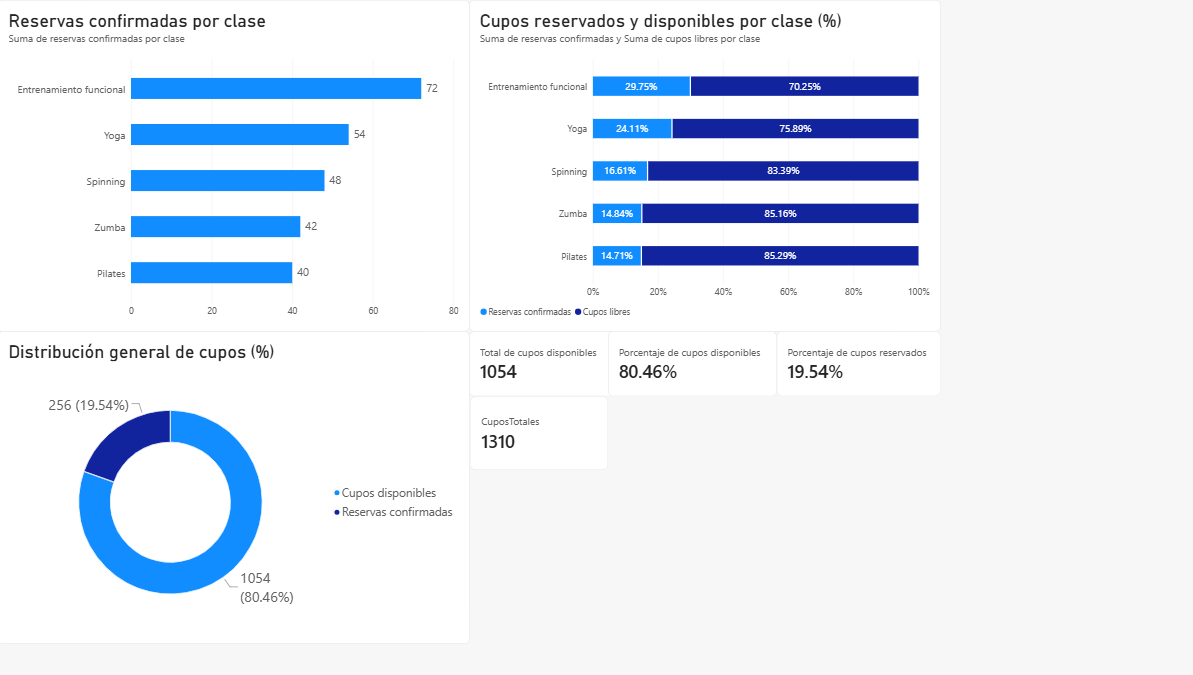

The dashboard page shown, as its layout file describes it:
{"tool":"powerbi","page":{"name":"Gestión de Clases","canvas":[1920,1080],"ordinal":1},"visuals":[{"type":"clusteredBarChart","title":"Reservas confirmadas por clase","fields":{"Category":["reportes vw_OcupacionSesion.clase"],"Y":["Sum(reportes vw_OcupacionSesion.reservas_confirmadas)"]},"box":[0,0,754,530],"z":0},{"type":"hundredPercentStackedBarChart","title":"Cupos reservados y disponibles por clase (%)","fields":{"Category":["reportes vw_OcupacionSesion.clase"],"Y":["Sum(reportes vw_OcupacionSesion.reservas_confirmadas)","Sum(reportes vw_OcupacionSesion.cupos_libres)"]},"box":[754,0,754,530],"z":1000},{"type":"cardVisual","title":"Cupos disponibles","fields":{"Data":["Sum(reportes vw_OcupacionSesion.cupos_libres)"]},"box":[754,530,234,104],"z":2000},{"type":"cardVisual","fields":{"Data":["reportes vw_Consulta1_OcupacionSesiones.OcupacionGeneral"]},"box":[1246,530,262,104],"z":3000},{"type":"cardVisual","fields":{"Data":["reportes vw_Consulta1_OcupacionSesiones.PorcentajeDisponible"]},"box":[976,530,270,104],"z":4000},{"type":"donutChart","title":"Distribución general de cupos (%)","fields":{"Category":["TiposCupo.Tipo"],"Y":["TiposCupo.CantidadPorTipo"]},"box":[0,530,754,500],"z":5000},{"type":"cardVisual","fields":{"Data":["reportes vw_Consulta1_OcupacionSesiones.CuposTotales"]},"box":[756,634,220,118],"z":5001}]}

Visuals, with their boxes in screenshot pixels (x1, y1, x2, y2), scaled from the page's 1920x1080 canvas onto the 1193x675 screenshot:
"Reservas confirmadas por clase" clusteredBarChart: region(0, 0, 469, 331)
"Cupos reservados y disponibles por clase (%)" hundredPercentStackedBarChart: region(469, 0, 937, 331)
"Cupos disponibles" cardVisual: region(469, 331, 614, 396)
cardVisual - reportes vw_Consulta1_OcupacionSesiones.OcupacionGeneral: region(774, 331, 937, 396)
cardVisual - reportes vw_Consulta1_OcupacionSesiones.PorcentajeDisponible: region(606, 331, 774, 396)
"Distribución general de cupos (%)" donutChart: region(0, 331, 469, 644)
cardVisual - reportes vw_Consulta1_OcupacionSesiones.CuposTotales: region(470, 396, 606, 470)
